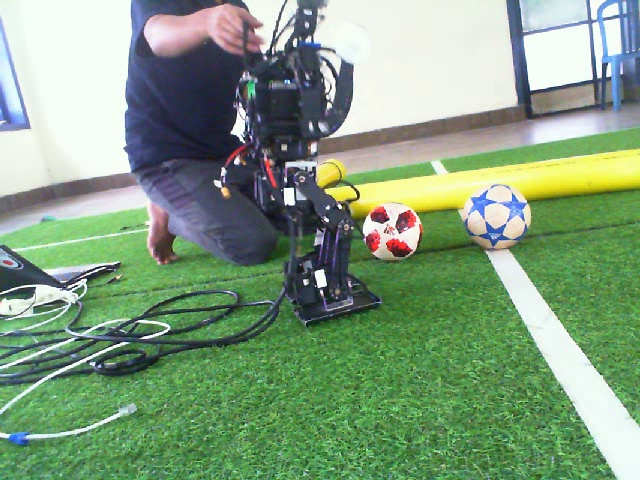ball: (461, 181, 534, 252), (362, 200, 425, 264)
